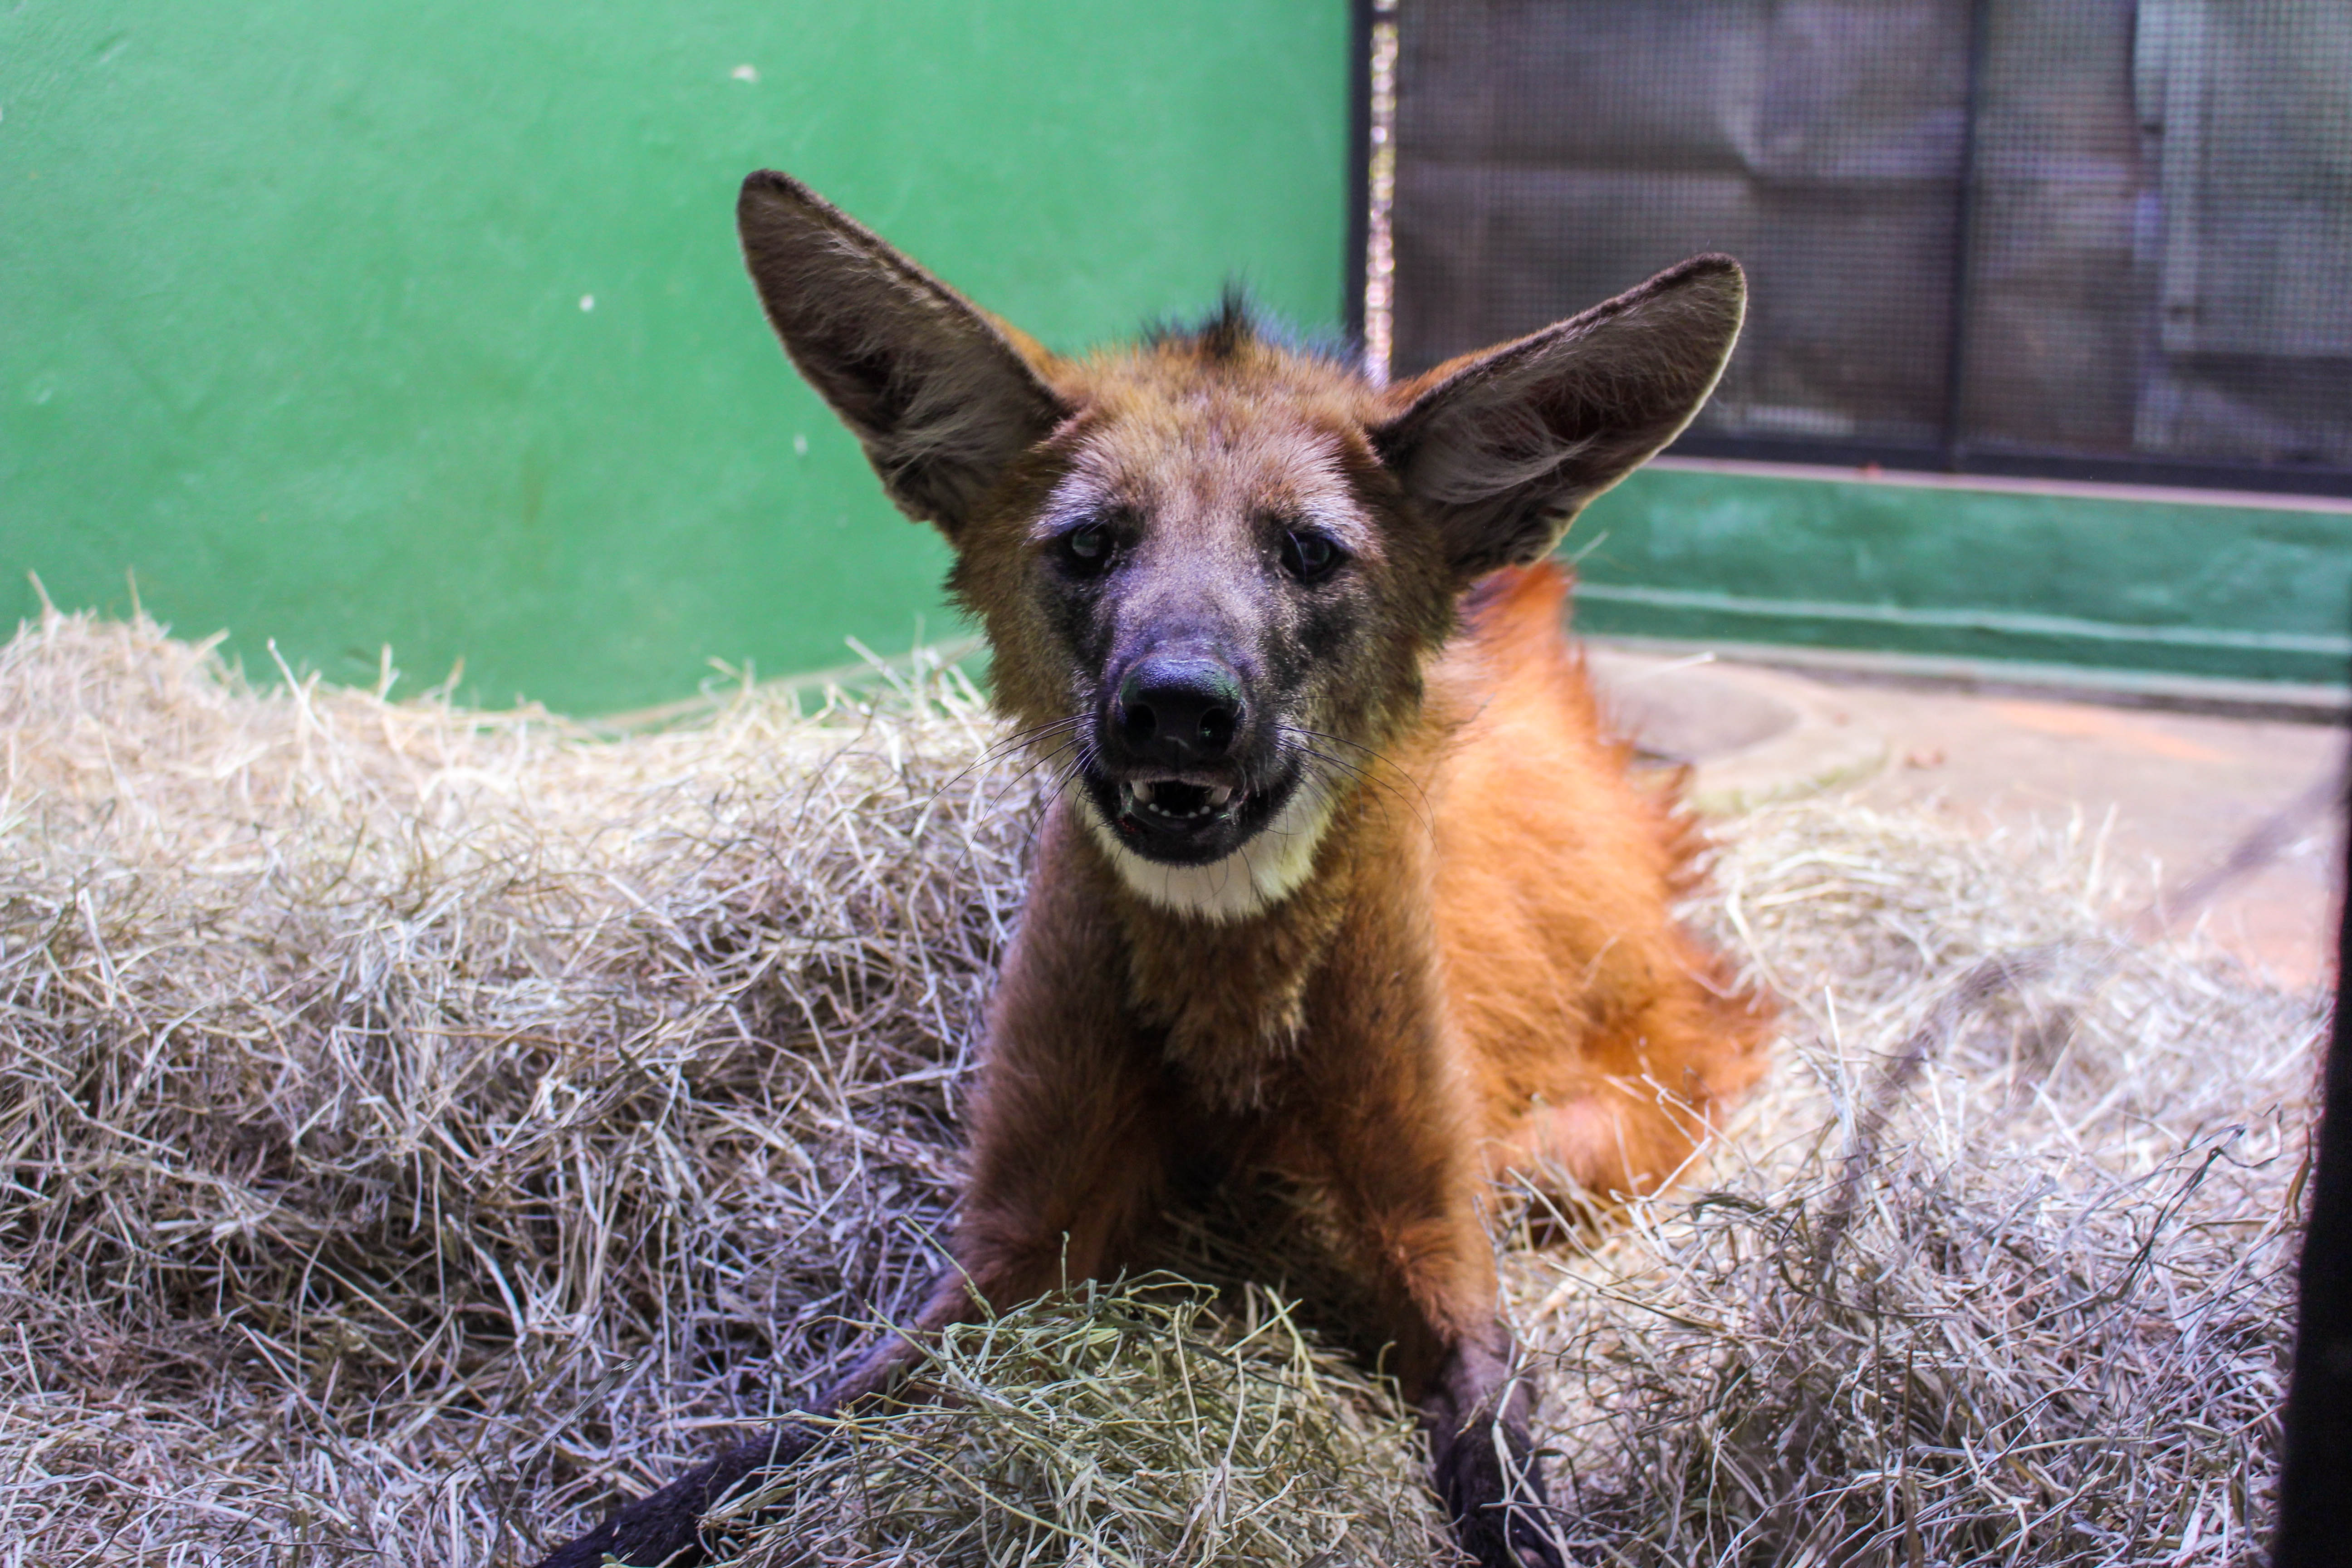LoboGuara: (695, 145, 1816, 1498)
